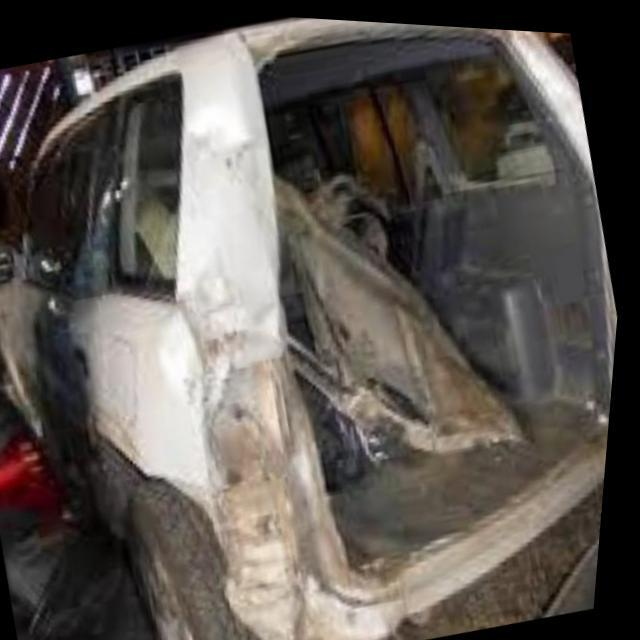no part: (176, 14, 622, 640)
